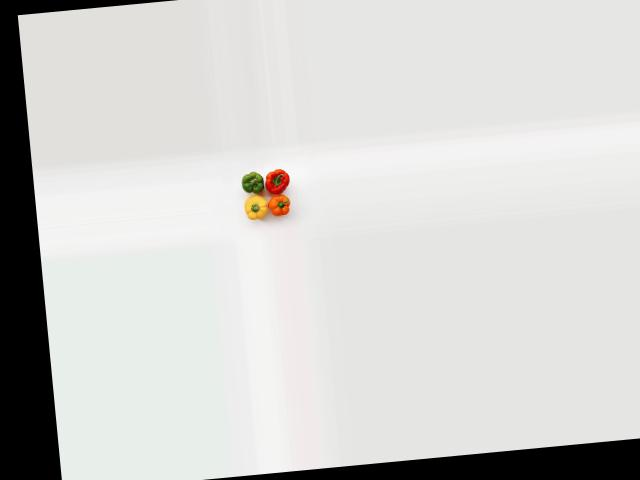bell_pepper: (233, 169, 270, 197)
